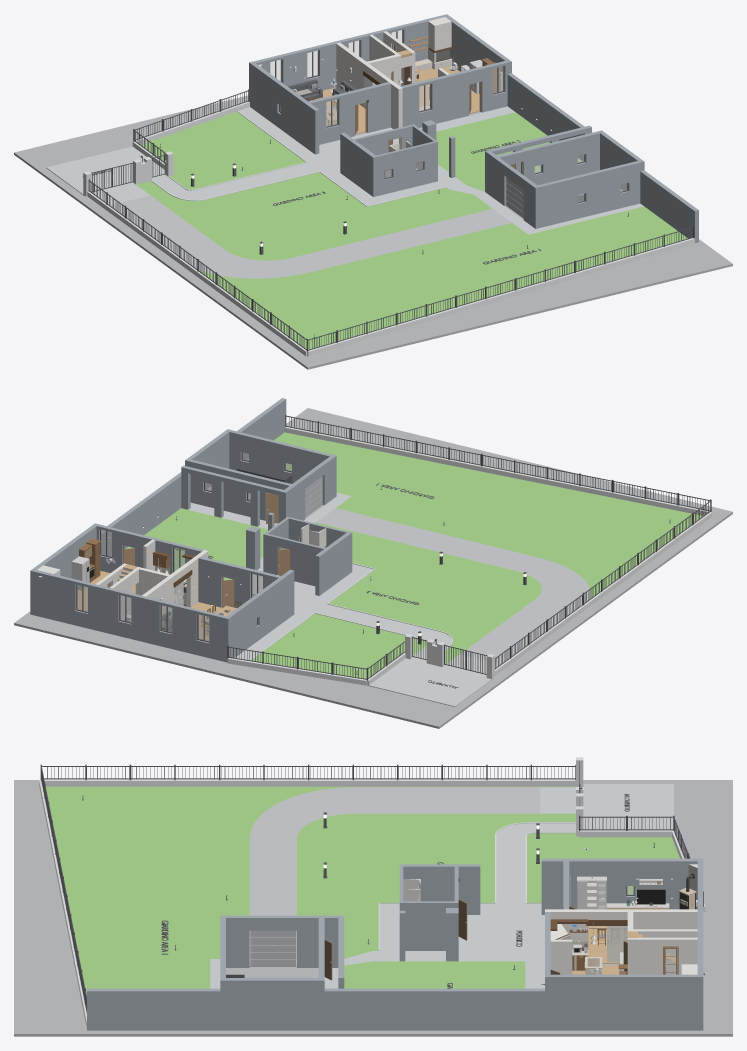
File: house_optimized.glb
The picture shows the model from 3 angles, top to bottom: view 1: azimuth 30°, elevation 25°; view 2: azimuth 150°, elevation 25°; view 3: azimuth 270°, elevation 25°; orthographic projection. The views are drawn at different scales.
Visible parts, largest first — view 1: Giardino_Area_1_Prato, Site_Foundation_Earth, Giardino_Area_3C_Prato, Driveway_Gravel, Giardino_Area_3A_Prato, Giardino_Area_2_Prato, Walkway_Pedestrian_Pavement, Portico_Pavement_Unified, Terrazza_All_Aperto, Fence_South_Curb, Muro_Cinta_Est, Muro_Cinta_Est_Sud (+28 smaller); view 2: Giardino_Area_1_Prato, Site_Foundation_Earth, Giardino_Area_3C_Prato, Driveway_Gravel, Giardino_Area_3A_Prato, Terrazza_All_Aperto, Giardino_Area_2_Prato, Walkway_Pedestrian_Pavement, Fence_South_Curb, Muro_Cinta_Est, Wall_North_05, Portico_Pavement_Unified (+27 smaller); view 3: Giardino_Area_1_Prato, Site_Foundation_Earth, Giardino_Area_3C_Prato, Driveway_Gravel, Muro_Cinta_Est, Wall_East_Ext, Portico_Pavement_Unified, Muro_Cinta_Est_Sud, Wall_Garage_East, Terrazza_All_Aperto, Giardino_Area_2_Prato, Fence_West_Curb (+26 smaller).
Part boxes in pixels (left/top/right/bottom): Giardino_Area_1_Prato: left=199, top=206, right=687, bottom=356; Site_Foundation_Earth: left=14, top=95, right=732, bottom=369; Giardino_Area_3C_Prato: left=136, top=172, right=492, bottom=260; Driveway_Gravel: left=110, top=195, right=511, bottom=278; Giardino_Area_3A_Prato: left=141, top=111, right=305, bottom=189; Giardino_Area_2_Prato: left=436, top=112, right=581, bottom=191; Walkway_Pedestrian_Pavement: left=152, top=107, right=380, bottom=205; Portico_Pavement_Unified: left=315, top=106, right=643, bottom=234; Terrazza_All_Aperto: left=46, top=146, right=166, bottom=204; Fence_South_Curb: left=307, top=238, right=694, bottom=356; Muro_Cinta_Est: left=507, top=73, right=592, bottom=160; Muro_Cinta_Est_Sud: left=640, top=170, right=698, bottom=243; Giardino_Area_1_Prato: left=247, top=432, right=702, bottom=599; Site_Foundation_Earth: left=14, top=408, right=732, bottom=728; Giardino_Area_3C_Prato: left=315, top=522, right=541, bottom=663; Driveway_Gravel: left=316, top=508, right=590, bottom=664; Giardino_Area_3A_Prato: left=251, top=613, right=426, bottom=685; Terrazza_All_Aperto: left=367, top=654, right=500, bottom=706; Giardino_Area_2_Prato: left=125, top=508, right=267, bottom=580; Walkway_Pedestrian_Pavement: left=235, top=566, right=451, bottom=661; Fence_South_Curb: left=284, top=427, right=710, bottom=515; Muro_Cinta_Est: left=101, top=472, right=181, bottom=556; Wall_North_05: left=30, top=570, right=76, bottom=625; Portico_Pavement_Unified: left=188, top=493, right=359, bottom=613; Giardino_Area_1_Prato: left=46, top=786, right=355, bottom=995; Site_Foundation_Earth: left=14, top=780, right=732, bottom=1036; Giardino_Area_3C_Prato: left=297, top=813, right=575, bottom=958; Driveway_Gravel: left=249, top=787, right=540, bottom=958; Muro_Cinta_Est: left=324, top=988, right=544, bottom=1030; Wall_East_Ext: left=545, top=974, right=703, bottom=1030; Portico_Pavement_Unified: left=210, top=912, right=544, bottom=988; Muro_Cinta_Est_Sud: left=87, top=988, right=220, bottom=1030; Wall_Garage_East: left=220, top=978, right=324, bottom=1030; Terrazza_All_Aperto: left=540, top=784, right=673, bottom=829; Giardino_Area_2_Prato: left=344, top=961, right=525, bottom=988; Fence_West_Curb: left=44, top=779, right=575, bottom=786.
Size of the model in its own units: 30.5 by 5.68 by 36.5.
